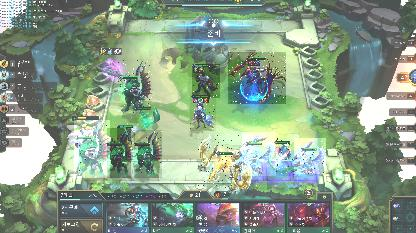1_daeja: (294, 138, 326, 174)
1_shiohyu: (134, 130, 162, 178), (107, 128, 131, 178)
1_sohm: (268, 138, 296, 176)
1_soraka: (117, 126, 135, 142)
2_daeja: (242, 132, 276, 176)
2_idas: (198, 134, 252, 192)
2_shiohyu: (74, 120, 110, 178), (118, 59, 152, 113)
2_sylas: (192, 64, 220, 98)
2_vladimir: (190, 95, 216, 131)
3_syfen: (228, 52, 286, 104)
